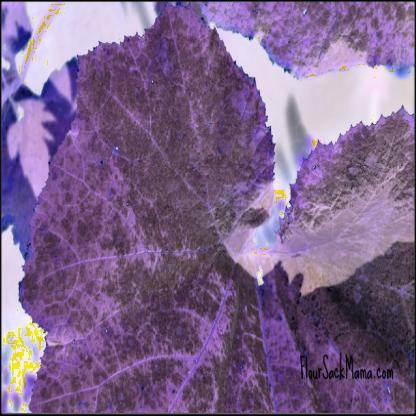squash powdery mildew leaf: (12, 3, 415, 415)
